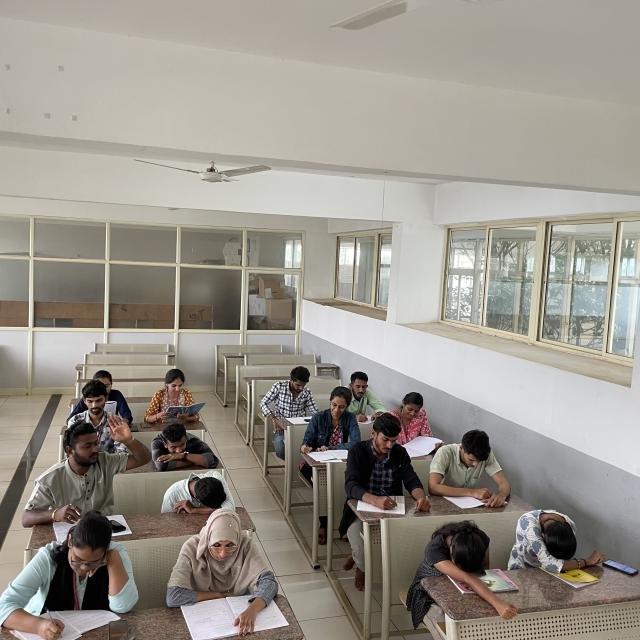Hand Rising: (20, 418, 151, 506)
Reading: (153, 515, 298, 640), (430, 436, 521, 511), (376, 383, 448, 457), (250, 363, 328, 428), (150, 373, 222, 427), (68, 370, 141, 419)
Sleeping: (411, 516, 518, 616), (506, 499, 604, 594), (156, 473, 254, 525), (146, 421, 231, 470)
Writing: (23, 515, 139, 640), (354, 417, 424, 521), (294, 392, 370, 468), (331, 363, 396, 425)
